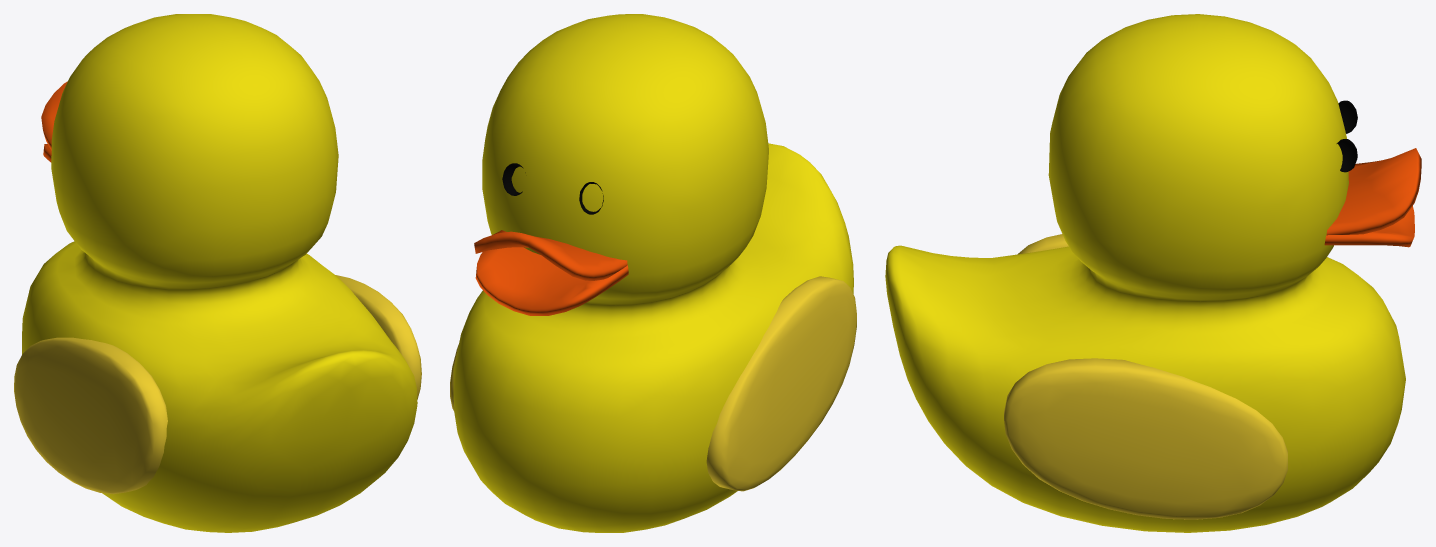
Rendered from Rubber Ducky.fbx.
The picture shows the model from 3 angles, left to right: view 1: azimuth 30°, elevation 25°; view 2: azimuth 150°, elevation 25°; view 3: azimuth 270°, elevation 25°; orthographic projection. The views are drawn at different scales.
Visible parts, largest first — view 1: Cube; view 2: Cube; view 3: Cube.
Part boxes in pixels (x1,y1,x2,y2): Cube: [14, 14, 421, 532]; Cube: [450, 14, 856, 532]; Cube: [885, 14, 1421, 532].
Size of the model in its own units: 186 by 290 by 293.
